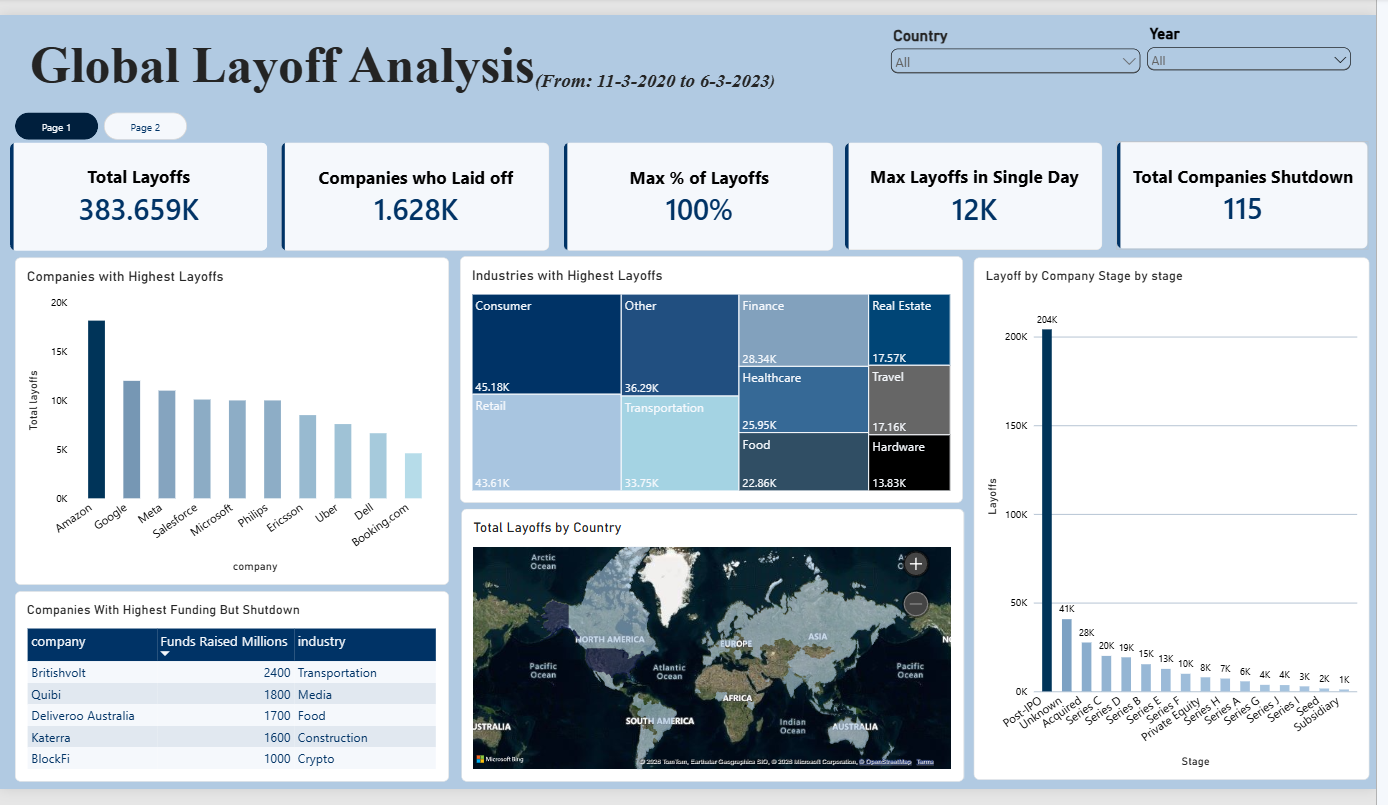

Layout of this report page (visuals, bound fields, positions):
{"tool":"powerbi","page":{"name":"Page 1","canvas":[1920,1080],"ordinal":0},"visuals":[{"type":"textbox","box":[0,28.6,1126.9,124.8],"z":0},{"type":"cardVisual","fields":{"Data":["Sum(world_layoffs vw_company_layoff_totals.sum(total_laid_off))"]},"box":[14.7,177.7,359.9,151.3],"z":0,"group":"g1"},{"type":"cardVisual","fields":{"Data":["Count(world_layoffs vw_company_layoff_totals.company)"]},"box":[393.3,177.7,374.9,151.3],"z":1000,"group":"g1"},{"type":"tableEx","title":"Companies With Highest Funding But  Shutdown","fields":{"Values":["world_layoffs vw_fully_laid_off_companies.company","world_layoffs vw_fully_laid_off_companies.funds_raised_millions","world_layoffs vw_fully_laid_off_companies.industry"]},"box":[20.5,803.8,605.4,265.9],"z":1000},{"type":"cardVisual","fields":{"Data":["Max(world_layoffs vw_max_daily_layoffs.max(percentage_laid_off))"]},"box":[786.9,177.7,376.1,151.8],"z":2000,"group":"g1"},{"type":"clusteredColumnChart","title":"Companies with Highest Layoffs","fields":{"Category":["world_layoffs vw_company_layoff_totals.company"],"Y":["Sum(world_layoffs vw_company_layoff_totals.sum(total_laid_off))"]},"box":[20.2,338.7,605.5,456.4],"z":2000},{"type":"cardVisual","fields":{"Data":["Sum(world_layoffs vw_max_daily_layoffs.max(total_laid_off))"]},"box":[1180.5,177.7,359.4,151],"z":3000,"group":"g1"},{"type":"treemap","title":"Industries with Highest Layoffs","fields":{"Group":["world_layoffs vw_industry_layoff_totals.industry"],"Values":["Sum(world_layoffs vw_industry_layoff_totals.sum(total_laid_off))"]},"box":[642.3,336.8,701.2,344.2],"z":3000},{"type":"cardVisual","fields":{"Data":["Count(world_layoffs vw_fully_laid_off_companies.company)"]},"box":[1558.1,176.7,352.4,151.3],"z":4000,"group":"g1"},{"type":"filledMap","title":"Total Layoffs by Country","fields":{"Category":["world_layoffs vw_country_layoff_totals.country"]},"box":[644.2,688.3,701.2,381],"z":4000},{"type":"clusteredColumnChart","fields":{"Category":["world_layoffs vw_stage_layoff_totals.stage"],"Y":["Sum(world_layoffs vw_stage_layoff_totals.sum(total_laid_off))"]},"box":[1358.3,338.7,552.2,728.8],"z":5000},{"type":"slicer","fields":{"Values":["world_layoffs layoffs_staging2.country"]},"box":[1238.7,16.6,357.9,75.7],"z":7000},{"type":"slicer","fields":{"Values":["world_layoffs layoffs_staging2.Year"]},"box":[1595.7,14.7,293.8,75.6],"z":8000},{"type":"group","id":"g1","title":"Group 1","box":[14.7,176.7,1895.7,152.8],"z":8001},{"type":"pageNavigator","box":[20.2,136.2,241.1,38.7],"z":8002}]}

Visuals, with their boxes on the page's 1920x1080 design canvas (x1, y1, x2, y2). These are canvas units, not pixel positions in the 1388x805 screenshot, which may show the page scaled, cropped or inside an application window:
textbox: 0/29/1127/153
cardVisual - Sum(world_layoffs vw_company_layoff_totals.sum(total_laid_off)): 15/178/375/329
cardVisual - Count(world_layoffs vw_company_layoff_totals.company): 393/178/768/329
"Companies With Highest Funding But  Shutdown" tableEx: 20/804/626/1070
cardVisual - Max(world_layoffs vw_max_daily_layoffs.max(percentage_laid_off)): 787/178/1163/330
"Companies with Highest Layoffs" clusteredColumnChart: 20/339/626/795
cardVisual - Sum(world_layoffs vw_max_daily_layoffs.max(total_laid_off)): 1180/178/1540/329
"Industries with Highest Layoffs" treemap: 642/337/1344/681
cardVisual - Count(world_layoffs vw_fully_laid_off_companies.company): 1558/177/1910/328
"Total Layoffs by Country" filledMap: 644/688/1345/1069
clusteredColumnChart - world_layoffs vw_stage_layoff_totals.stage x Sum(world_layoffs vw_stage_layoff_totals.sum(total_laid_off)): 1358/339/1910/1068
slicer - world_layoffs layoffs_staging2.country: 1239/17/1597/92
slicer - world_layoffs layoffs_staging2.Year: 1596/15/1890/90
"Group 1" group: 15/177/1910/330
pageNavigator: 20/136/261/175
